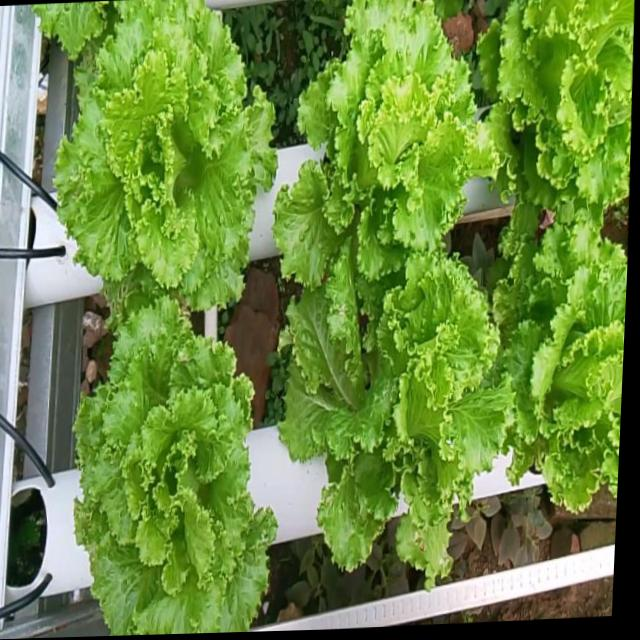Mature: (281, 259, 515, 617), (51, 0, 281, 317), (75, 297, 279, 636), (276, 0, 502, 292), (498, 231, 627, 524), (483, 0, 634, 247)
